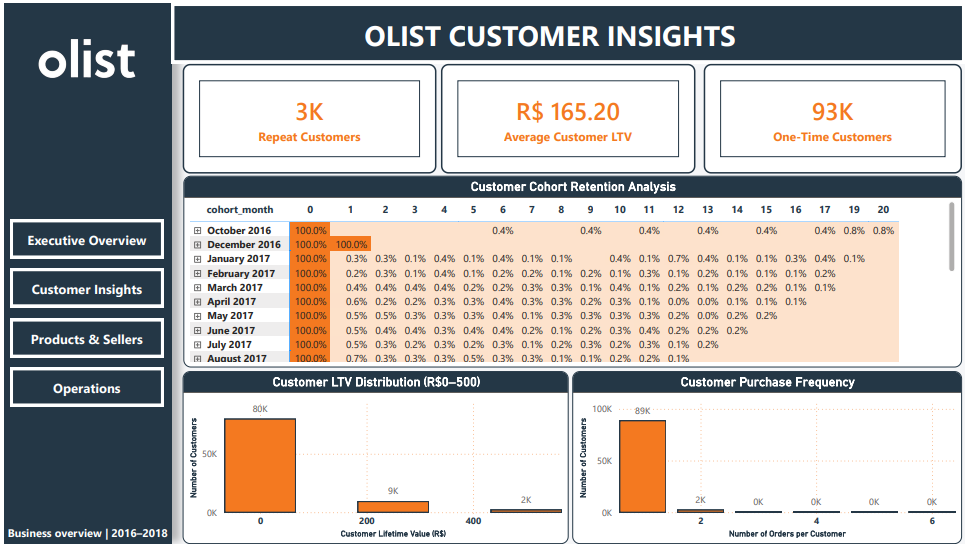

What the dashboard file says about the page in this screenshot:
{"tool":"powerbi","page":{"name":"Customer Insights","canvas":[1280,720],"ordinal":1},"visuals":[{"type":"shape","box":[0,0,223.3,720],"z":0},{"type":"shape","box":[223.3,0,1056.7,80],"z":1000},{"type":"image","box":[23.3,0,175,146.7],"z":2000},{"type":"textbox","box":[175,11.7,1105,68.3],"z":3000},{"type":"textbox","box":[0,689.8,237.3,30.8],"z":4000},{"type":"actionButton","box":[8.3,288.3,205,51.7],"z":5000},{"type":"actionButton","box":[8.3,353.3,205,51.7],"z":6000},{"type":"actionButton","box":[8.3,420,205,51.7],"z":7000},{"type":"actionButton","box":[8.3,485,205,51.7],"z":8000},{"type":"cardVisual","fields":{"Data":["Measure Table.Repeated Customers"]},"box":[237.6,80.6,338.4,146.9],"z":9000},{"type":"cardVisual","fields":{"Data":["Measure Table.Average Customer LTV"]},"box":[581.7,80.6,339.8,146.9],"z":10000},{"type":"cardVisual","fields":{"Data":["Measure Table.One-Time Customers"]},"box":[931.6,80.6,344.1,146.9],"z":11000},{"type":"pivotTable","title":"Customer Cohort Retention Analysis","fields":{"Columns":["analytics customer_retention.month_number"],"Values":["Measure Table.Customer Retention %"],"Rows":["analytics customer_retention.cohort_month","analytics customer_retention.cohort_month.Variation.Date Hierarchy.Year","analytics customer_retention.cohort_month.Variation.Date Hierarchy.Quarter","analytics customer_retention.cohort_month.Variation.Date Hierarchy.Month","analytics customer_retention.cohort_month.Variation.Date Hierarchy.Day"]},"box":[239,230.4,1036.7,254.8],"z":12000},{"type":"clusteredColumnChart","title":"Customer LTV Distribution (R$0–500)","fields":{"Category":["analytics customer_analytics.lifetime_value (bins)"],"Y":["CountNonNull(analytics customer_analytics.customer_unique_id)"]},"box":[237.6,489.5,514,230.4],"z":13000},{"type":"clusteredColumnChart","title":"\tCustomer Purchase Frequency","fields":{"Category":["analytics customer_analytics.total_orders"],"Y":["CountNonNull(analytics customer_analytics.customer_unique_id)"]},"box":[757.3,489.5,518.3,230.4],"z":14000}]}

Visuals, with their boxes in screenshot pixels (x1, y1, x2, y2), scaled from the page's 1280x720 canvas onto the 967x550 screenshot:
shape: x1=0 y1=0 x2=169 y2=549
shape: x1=169 y1=0 x2=966 y2=61
image: x1=18 y1=0 x2=150 y2=112
textbox: x1=132 y1=9 x2=966 y2=61
textbox: x1=0 y1=527 x2=179 y2=549
actionButton: x1=6 y1=220 x2=161 y2=260
actionButton: x1=6 y1=270 x2=161 y2=309
actionButton: x1=6 y1=321 x2=161 y2=360
actionButton: x1=6 y1=370 x2=161 y2=410
cardVisual - Measure Table.Repeated Customers: x1=179 y1=62 x2=435 y2=174
cardVisual - Measure Table.Average Customer LTV: x1=439 y1=62 x2=696 y2=174
cardVisual - Measure Table.One-Time Customers: x1=704 y1=62 x2=964 y2=174
"Customer Cohort Retention Analysis" pivotTable: x1=181 y1=176 x2=964 y2=371
"Customer LTV Distribution (R$0–500)" clusteredColumnChart: x1=179 y1=374 x2=568 y2=549
"	Customer Purchase Frequency" clusteredColumnChart: x1=572 y1=374 x2=964 y2=549
